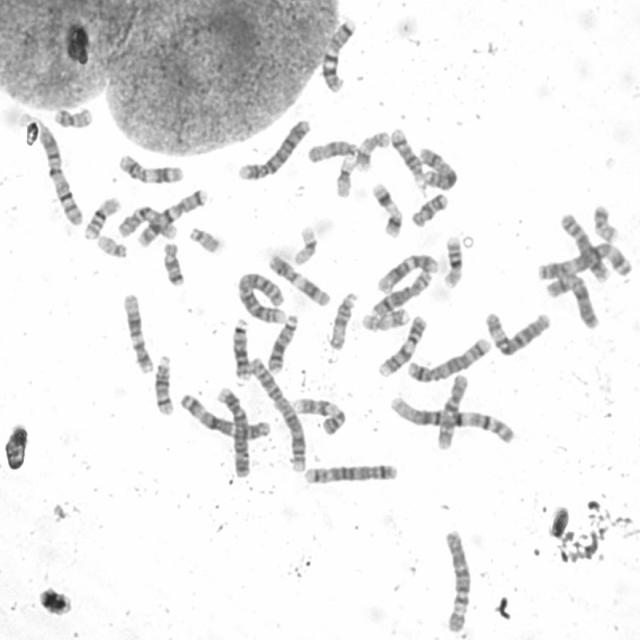A1: (386, 390, 516, 446), (22, 115, 86, 227)
A2: (246, 354, 308, 473), (234, 268, 288, 324)
A3: (175, 387, 272, 442), (534, 239, 635, 282)
B4: (235, 114, 312, 183), (213, 382, 253, 478)
B5: (404, 333, 493, 383), (300, 459, 400, 486)
C10: (433, 368, 472, 453), (115, 202, 180, 240)
C11: (265, 250, 333, 308), (115, 150, 185, 185)
C12: (119, 288, 156, 374), (374, 249, 441, 294)
C6: (440, 524, 474, 634), (482, 306, 553, 357)
C7: (135, 185, 210, 248), (318, 15, 358, 94)
C8: (557, 208, 612, 284), (368, 264, 435, 318)
C9: (376, 312, 428, 378), (288, 393, 348, 436)
D13: (265, 311, 300, 374), (229, 314, 253, 382)
D14: (388, 122, 428, 186), (150, 350, 177, 417)
D15: (326, 288, 360, 350), (305, 135, 361, 164)
E16: (80, 192, 122, 241), (440, 230, 466, 290)
E17: (353, 126, 392, 172), (358, 303, 411, 332)
E18: (408, 189, 450, 229), (159, 238, 187, 287)
F19: (289, 220, 320, 266), (332, 151, 357, 199)
F20: (589, 200, 620, 243), (50, 103, 95, 129)
G21: (368, 178, 402, 218), (381, 205, 404, 239)
G22: (186, 222, 224, 255), (93, 230, 130, 259)
X: (543, 269, 603, 330), (415, 142, 460, 191)
